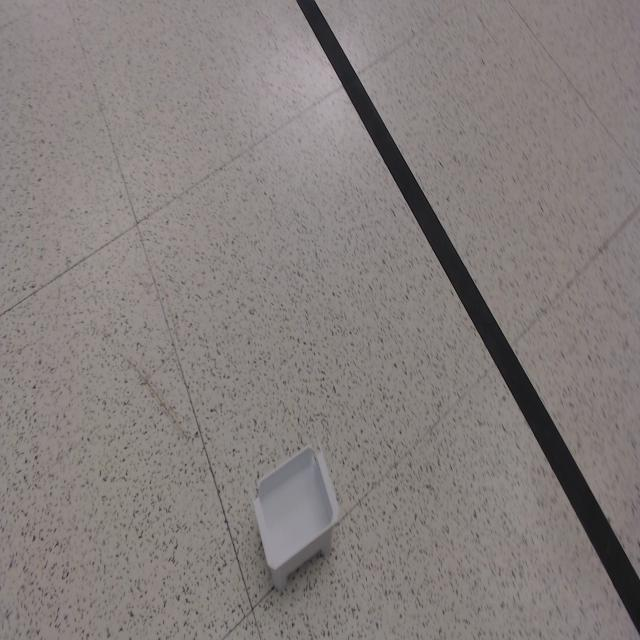wbox: (250, 438, 340, 594)
